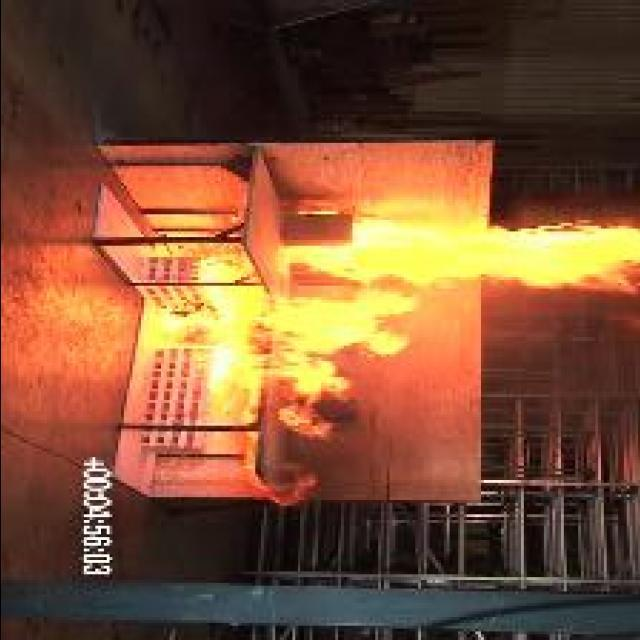Fire: (143, 254, 420, 440), (280, 215, 640, 282)
